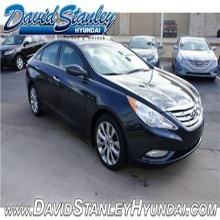no damage: (25, 40, 205, 171), (173, 36, 220, 78), (1, 32, 45, 73), (130, 35, 160, 64)
